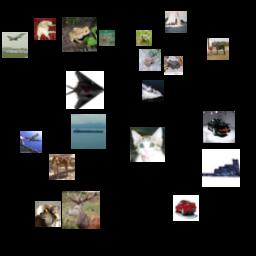airplane: (202, 149, 240, 187), (66, 71, 104, 109), (2, 32, 28, 58), (20, 131, 42, 153)
automobile: (203, 111, 235, 143), (173, 195, 199, 221)
cat: (130, 127, 165, 162), (34, 18, 56, 40)
deer: (62, 191, 100, 229), (99, 30, 115, 46)
dog: (49, 154, 75, 180), (35, 201, 61, 227)
frog: (62, 17, 97, 52), (139, 49, 161, 71), (164, 56, 183, 75), (136, 30, 152, 46)
ship: (71, 114, 106, 149), (142, 80, 164, 102), (165, 11, 187, 33)
